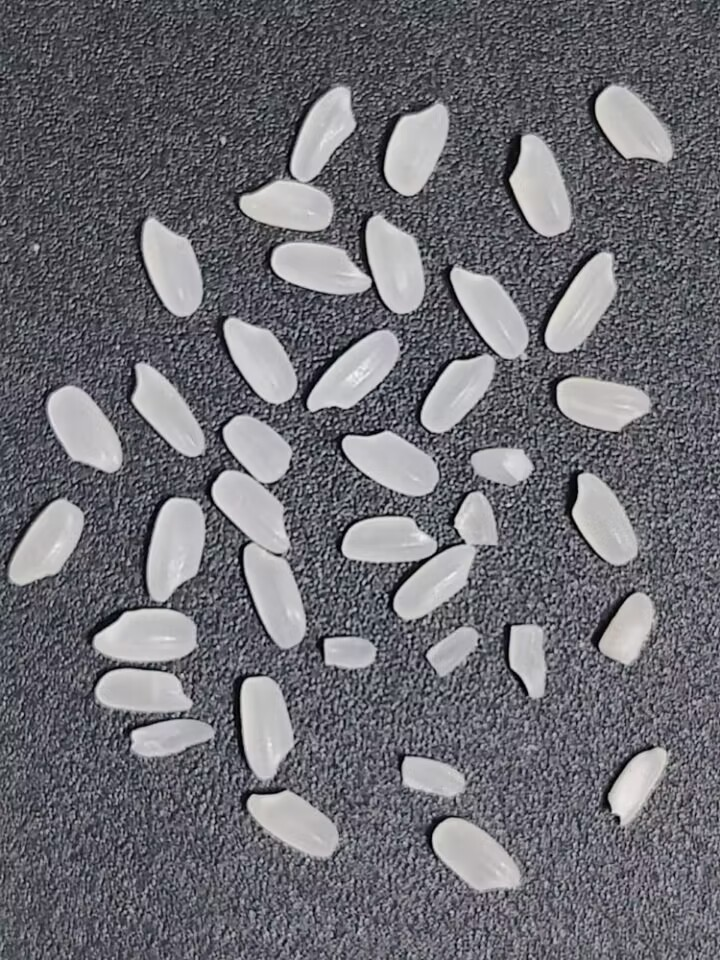broken: (222, 412, 292, 484), (607, 747, 668, 825), (598, 591, 655, 666), (128, 719, 217, 759), (424, 624, 480, 678), (508, 623, 547, 699), (401, 755, 466, 798), (454, 491, 499, 547), (471, 447, 533, 486), (323, 636, 376, 669)
rice: (385, 538, 483, 626), (135, 493, 211, 605), (361, 208, 430, 326), (448, 263, 530, 360), (219, 313, 301, 410), (209, 470, 298, 559), (306, 329, 400, 413), (544, 249, 619, 354), (336, 429, 447, 498), (129, 360, 207, 458), (81, 606, 210, 663), (412, 352, 500, 433), (7, 498, 86, 587), (46, 384, 124, 474), (242, 544, 307, 649), (508, 132, 572, 238), (246, 789, 340, 861), (432, 817, 521, 892), (228, 176, 345, 233), (140, 214, 204, 318), (289, 85, 356, 182), (383, 100, 450, 197), (595, 84, 674, 164), (571, 472, 638, 566), (88, 667, 197, 722), (240, 676, 295, 781), (335, 512, 444, 564), (269, 241, 372, 296), (556, 377, 650, 433)
